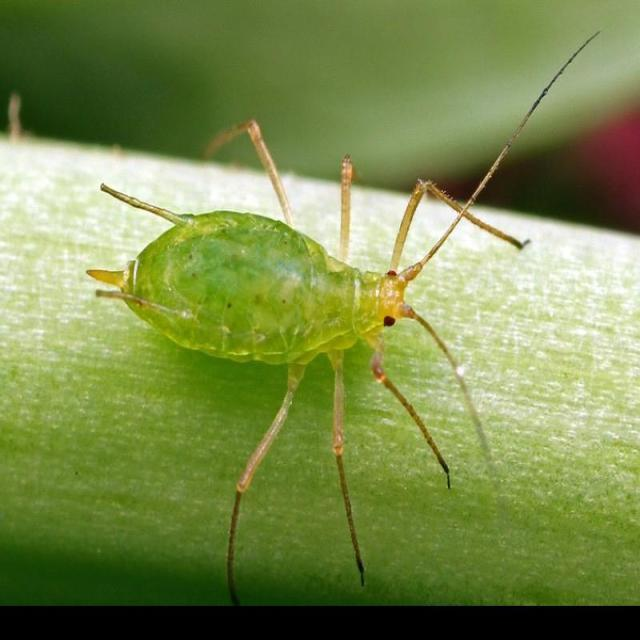aphid: (90, 144, 541, 538)
